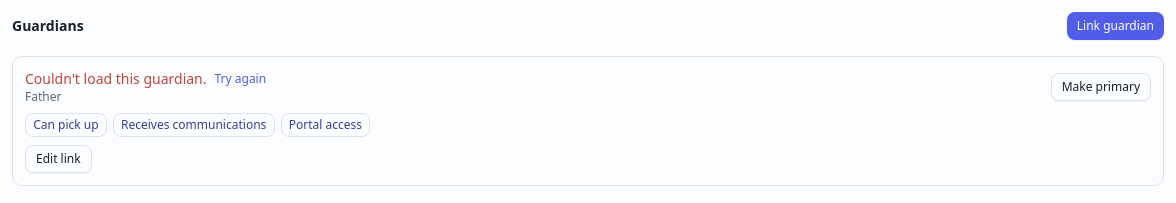
StudentGuardiansTab › shows a per-row load-error with retry when a guardian lookup fails, not a stuck placeholder
This screenshot has width=1176, height=203.
Expected: the text "Couldn't load this guardian." is shown, [25,69,206,89]
// The real retry-button copy: `common.retry` is "Try again", not "Retry".
Click the button "Try again" at (240, 79), box [214,71,266,87]
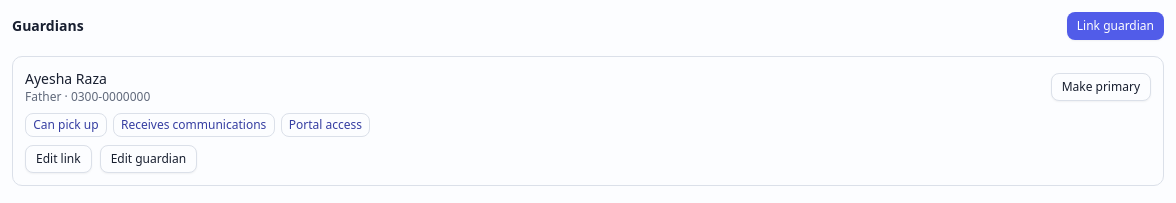
Now the text "Ayesha Raza" is shown, box [25,69,107,88]
